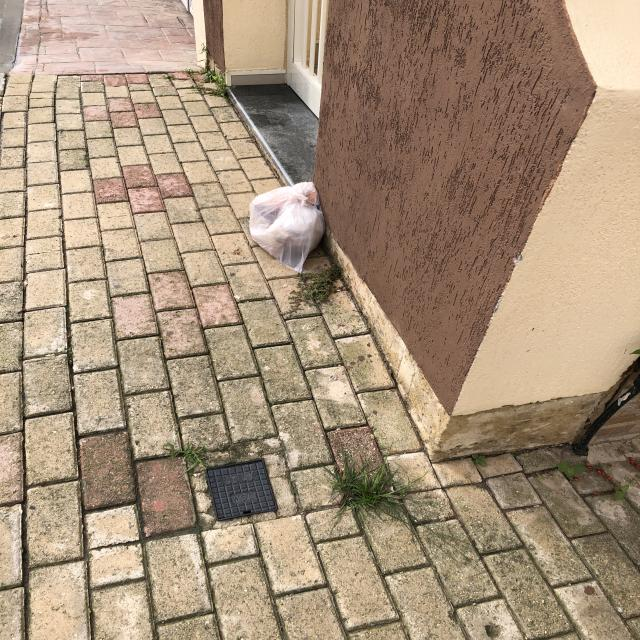Organic Waste -White Bag-: (250, 183, 327, 274)
